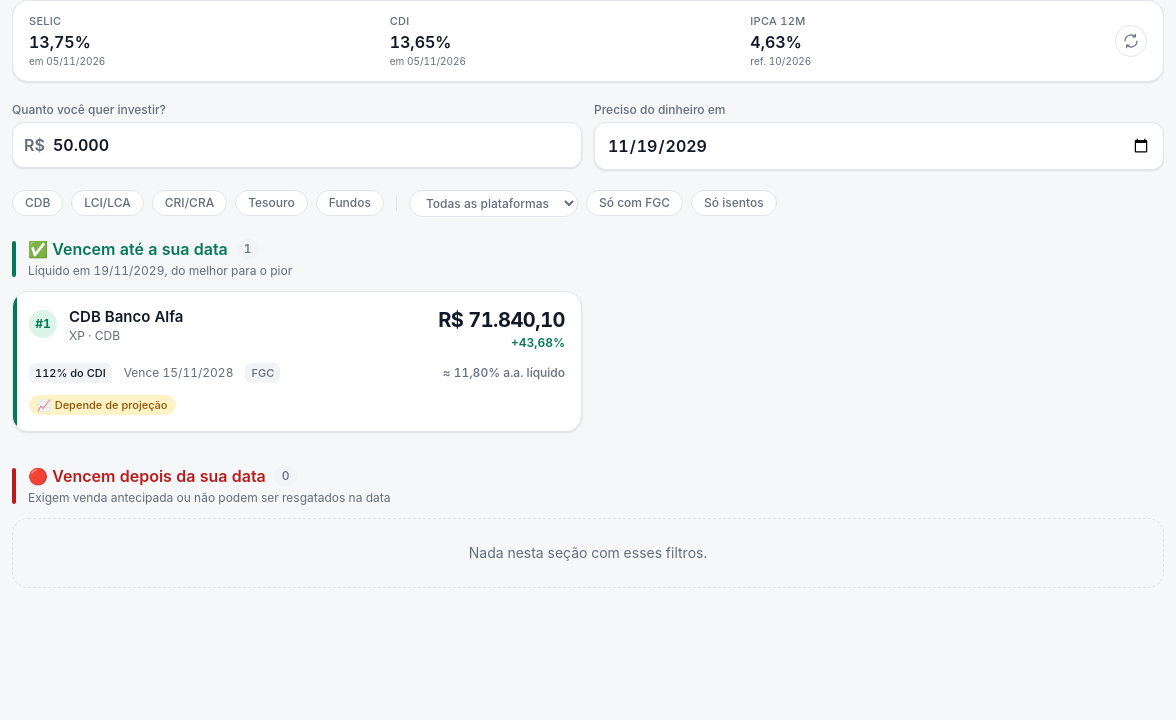
Test case: falha ao atualizar o mercado mostra mensagem
Expected: the button "CDB Banco Alfa" is shown, left=69, top=308, right=183, bottom=326
Click the button named "Atualizar dados de mercado" at {"x": 1131, "y": 41}, box left=1115, top=25, right=1147, bottom=57
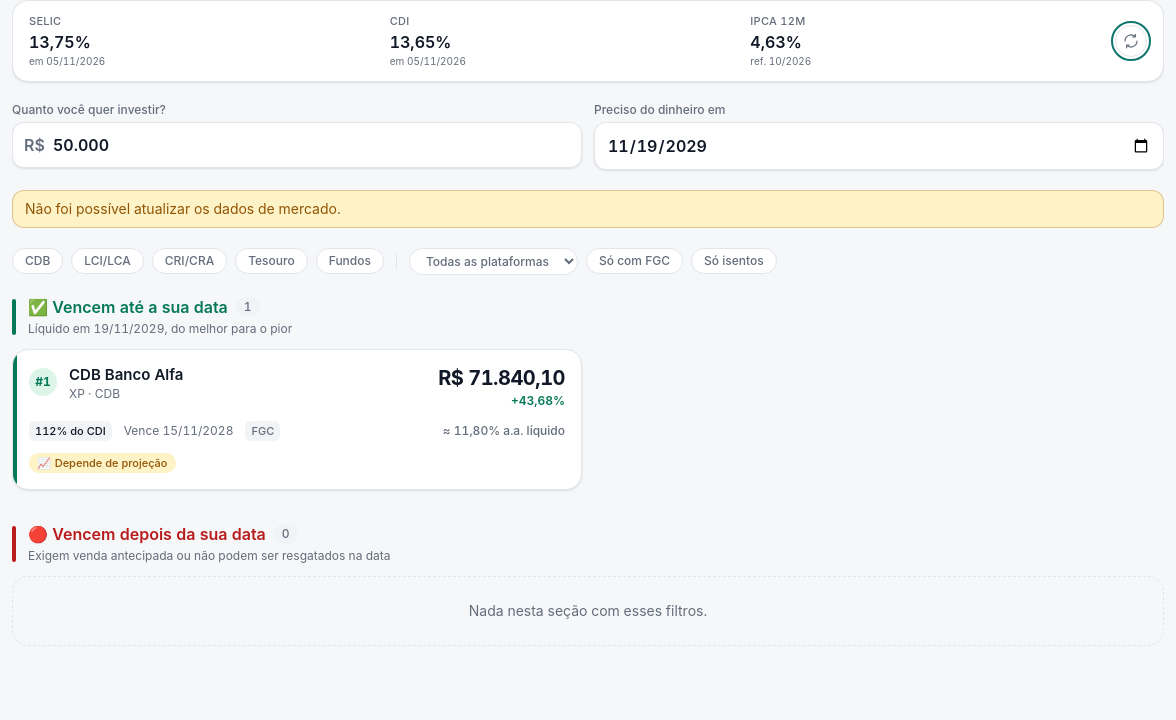
Expected: the text "Não foi possível atualizar os dados de mercado." is shown, left=25, top=200, right=341, bottom=216
